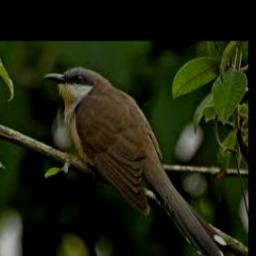Cuckoo: (42, 66, 226, 256)
